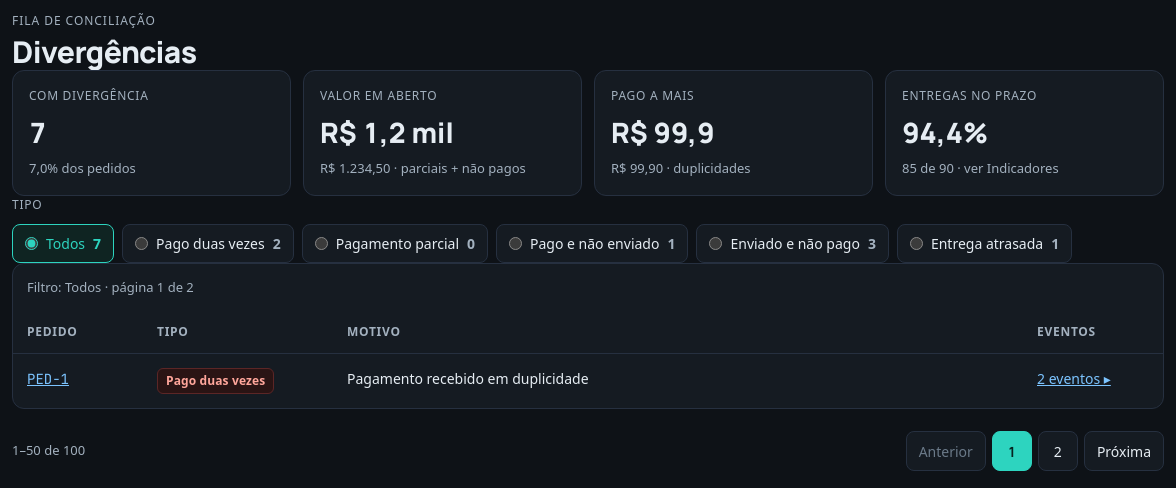
Scenario: Divergencias — paginação via URL (?pagina=) › durante a troca de página os botões de Paginacao ficam aria-disabled mas continuam no DOM e focáveis
expect the text "Filtro: Todos · página 1 de 2" is shown: met, box [27,278,194,296]
Click the button "Próxima" at {"x": 1124, "y": 451}, box [1084,431,1164,471]
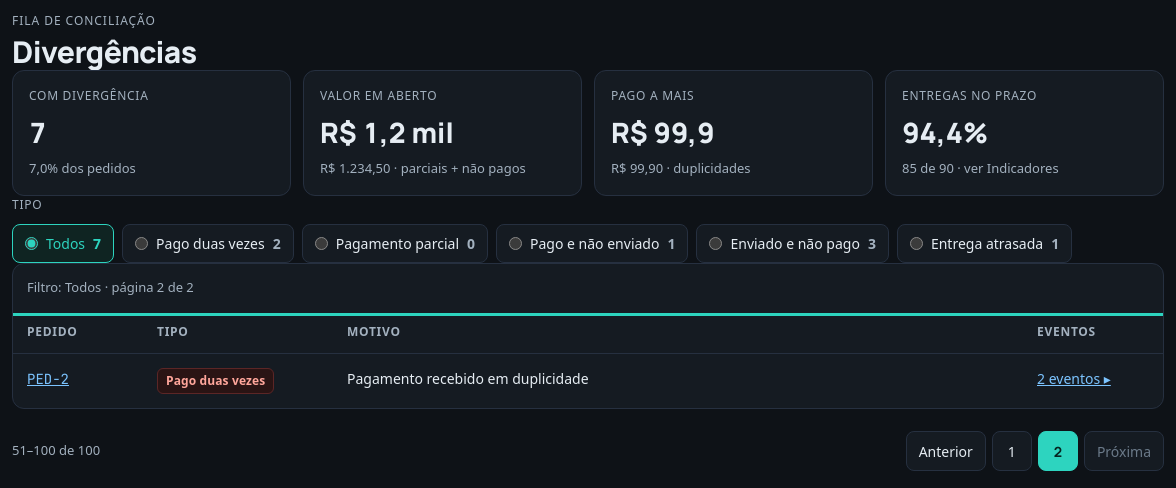
expect the text "Filtro: Todos · página 2 de 2" is shown: met, box [27,278,194,296]
